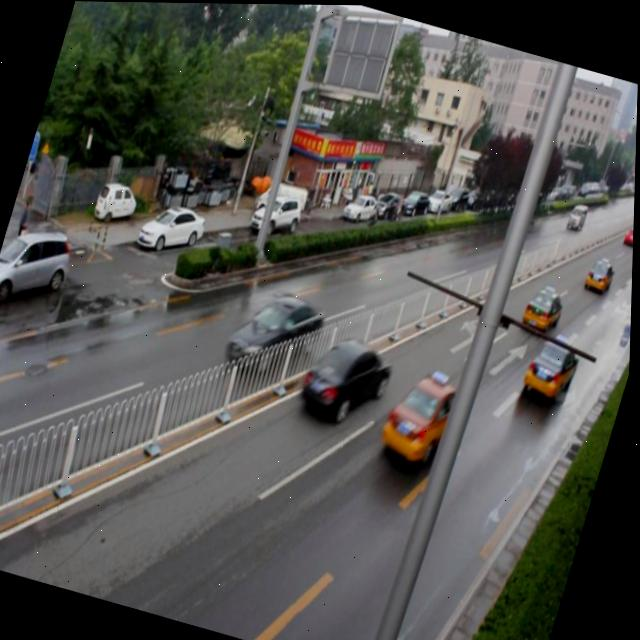car: (221, 278, 329, 389), (294, 323, 400, 431), (378, 359, 478, 468), (520, 326, 585, 404), (519, 278, 568, 332), (580, 252, 617, 296)
